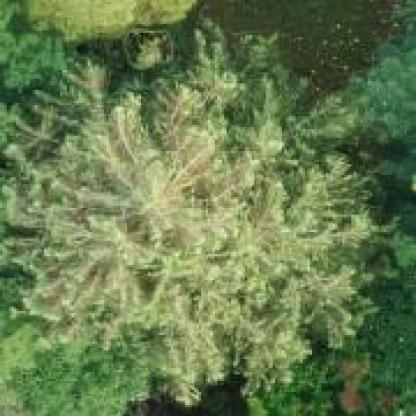Coniferous Tree: (2, 20, 354, 372)
